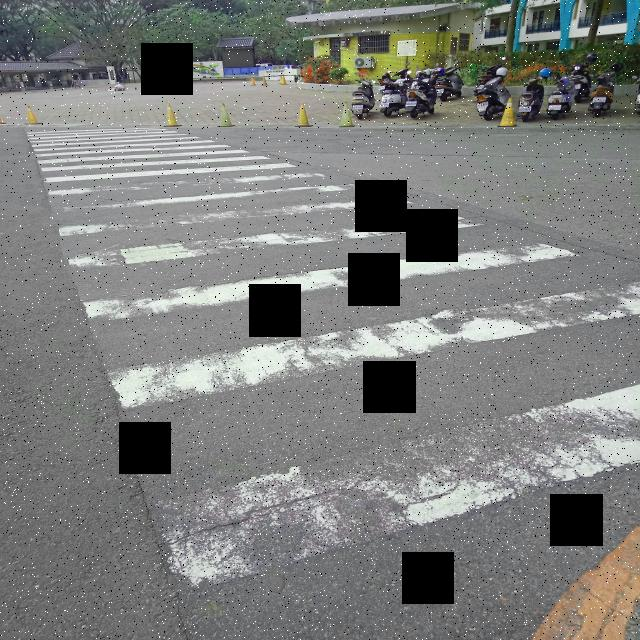zebra_crossing: (23, 125, 640, 592)
